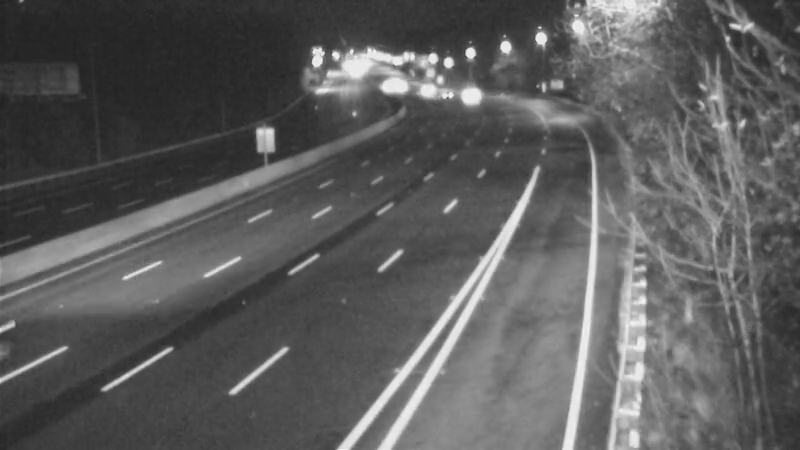vehicle: (364, 61, 414, 111), (400, 63, 450, 113), (417, 70, 467, 120), (438, 70, 488, 120)
